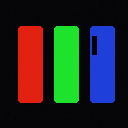4 line_v: (92, 36, 96, 54)
